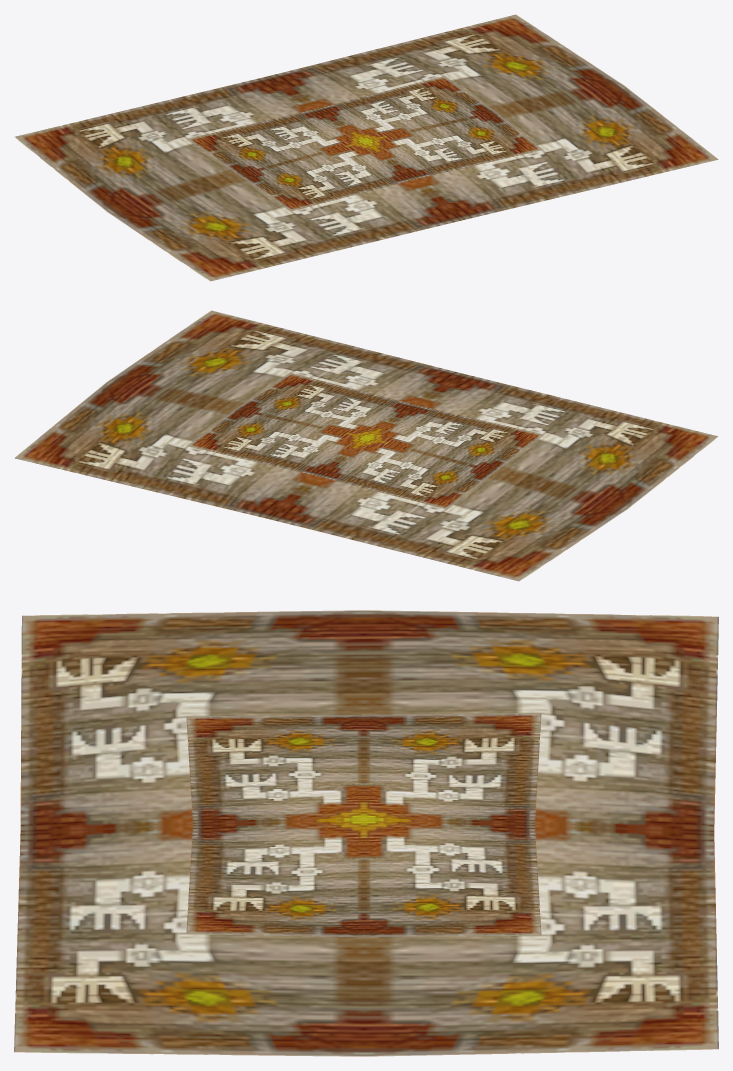
File: taurenrug01.obj
3 views of the same model, one above another, from view 1: azimuth 30°, elevation 25°; view 2: azimuth 150°, elevation 25°; view 3: azimuth 270°, elevation 25° (orthographic). The views are drawn at different scales.
Visible parts, largest first — view 1: taurenrug01; view 2: taurenrug01; view 3: taurenrug01.
Part boxes in pixels (box(x1,y1,x2,y2)): taurenrug01: box(15, 14, 718, 281); taurenrug01: box(14, 310, 717, 581); taurenrug01: box(14, 610, 718, 1056).
Bounding box in the file's own units: 2.69 × 0.0393 × 1.79.
1 material, 1 textured.
